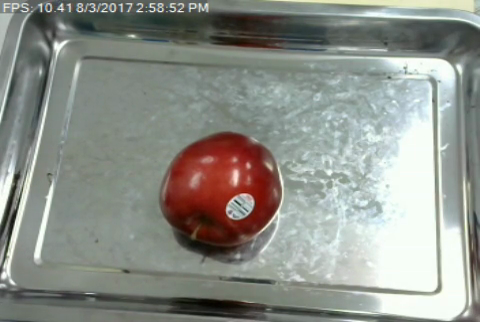Apple: (157, 128, 287, 251)
